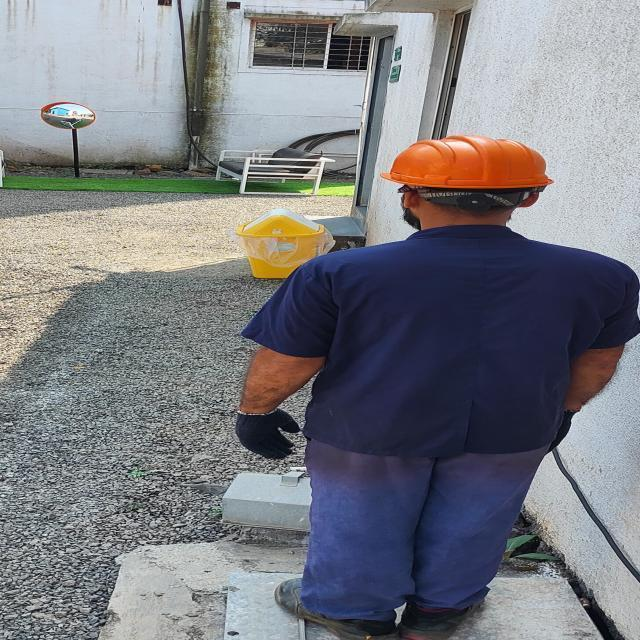gloved_hand: (194, 393, 330, 465)
